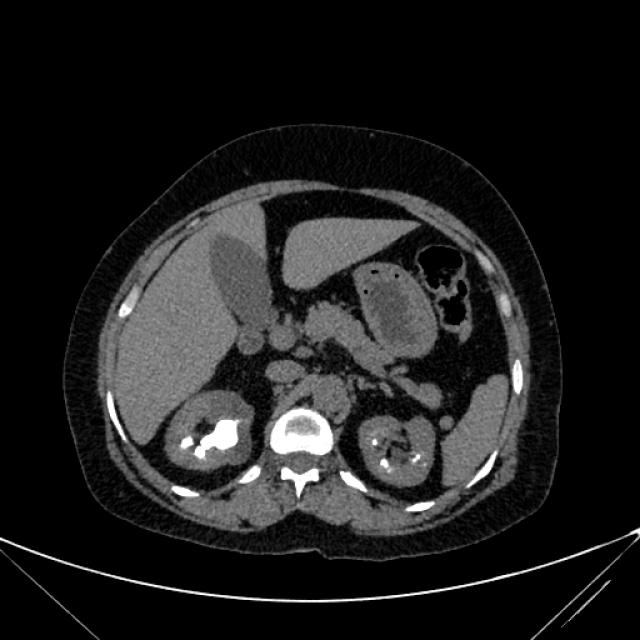kidney: (163, 383, 263, 483), (352, 406, 447, 492)
stone: (193, 416, 241, 459), (179, 432, 195, 452), (380, 456, 394, 474), (410, 447, 422, 466), (372, 433, 379, 448)
